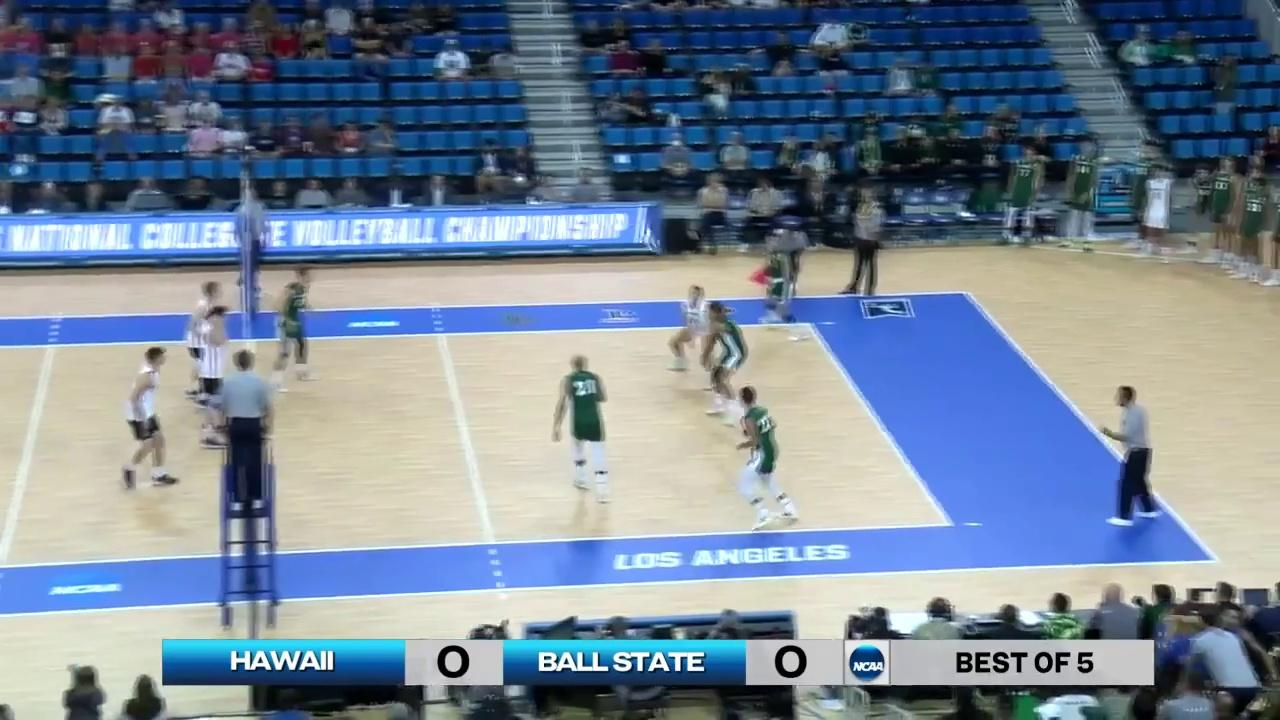player: (725, 387, 792, 528), (555, 355, 614, 504), (121, 347, 177, 488), (193, 306, 234, 449), (699, 304, 748, 419), (184, 279, 227, 410), (278, 267, 315, 385), (759, 239, 800, 340), (676, 286, 722, 376)
refree: (212, 348, 277, 512), (1103, 388, 1157, 527), (750, 229, 809, 297), (234, 190, 268, 299)
